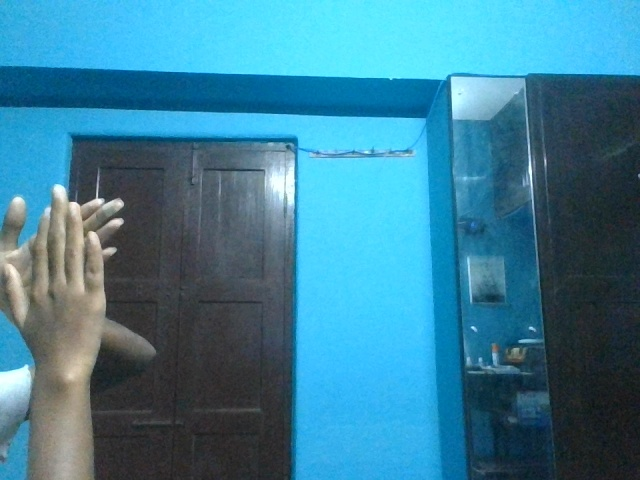H: (1, 183, 128, 375)
